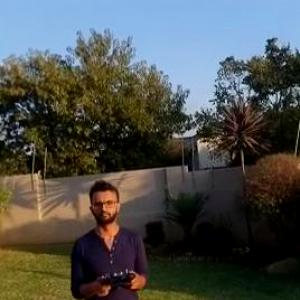follow: (65, 170, 157, 299)
